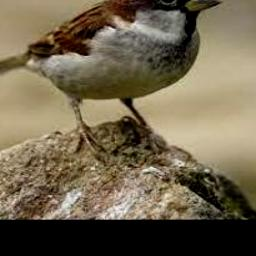Sparrow: (0, 0, 224, 154)
